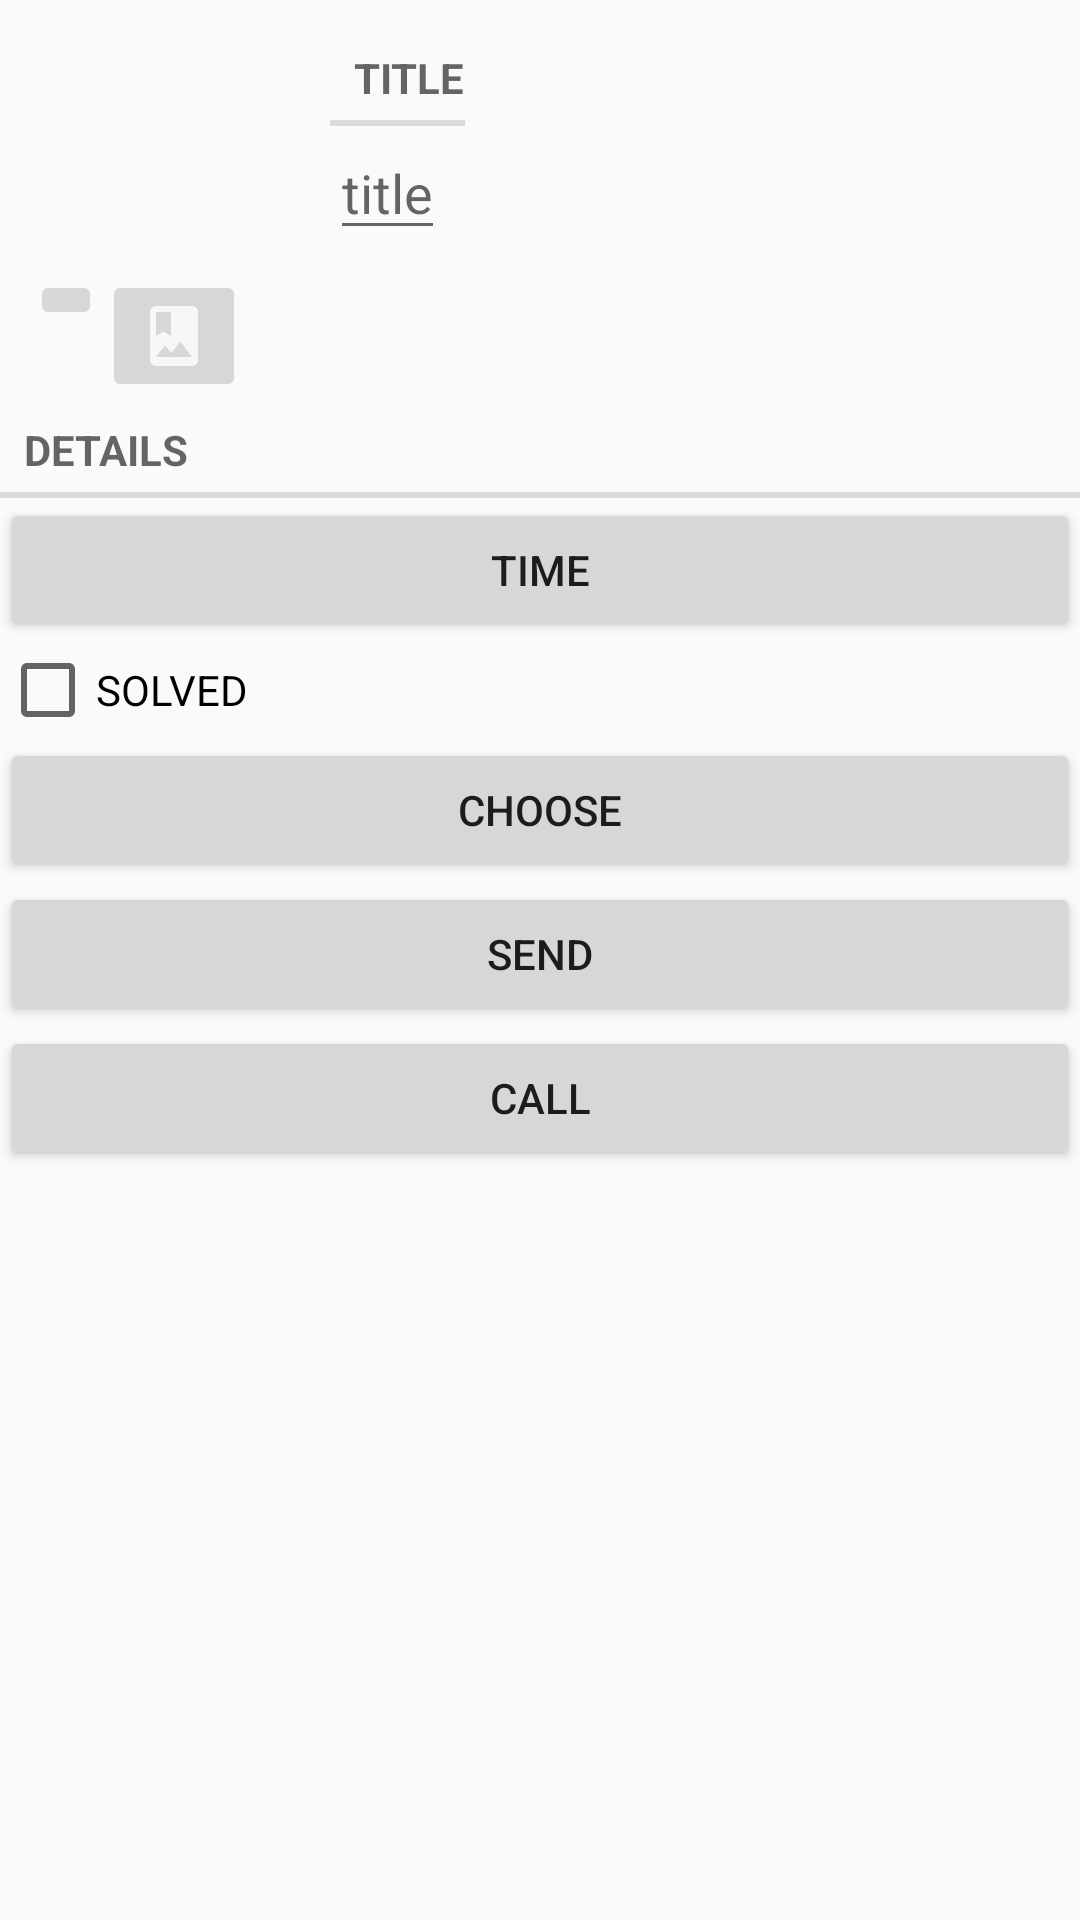

Where to tap for icons on this 1080px x 1920px app screen, as (x=x, y=y):
album: (x=174, y=336)
